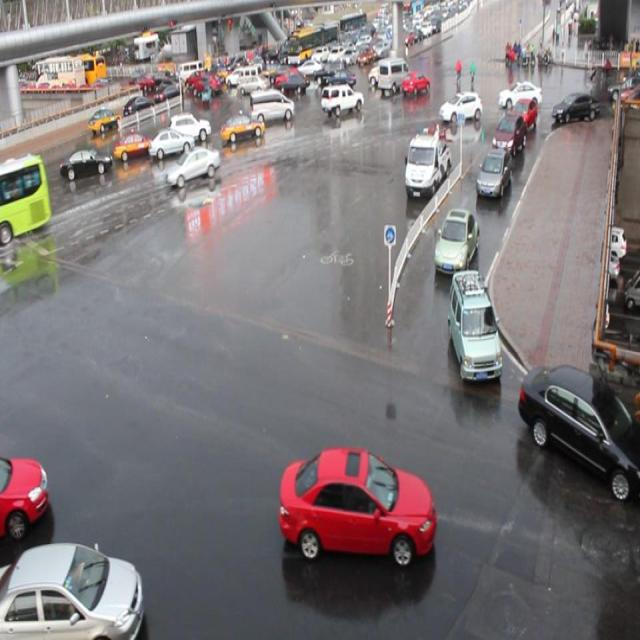bus: (403, 129, 450, 202)
car: (280, 445, 436, 565), (518, 362, 640, 497), (1, 540, 145, 640), (448, 270, 502, 381), (1, 453, 48, 535), (434, 207, 478, 272), (166, 147, 221, 186), (475, 148, 511, 198), (60, 146, 112, 179), (490, 113, 524, 156), (438, 90, 481, 123), (321, 84, 364, 115), (220, 114, 265, 143), (149, 128, 194, 156), (168, 113, 211, 141), (113, 129, 153, 158), (507, 98, 537, 133)
truck: (248, 90, 294, 122)
van: (1, 157, 52, 246)
